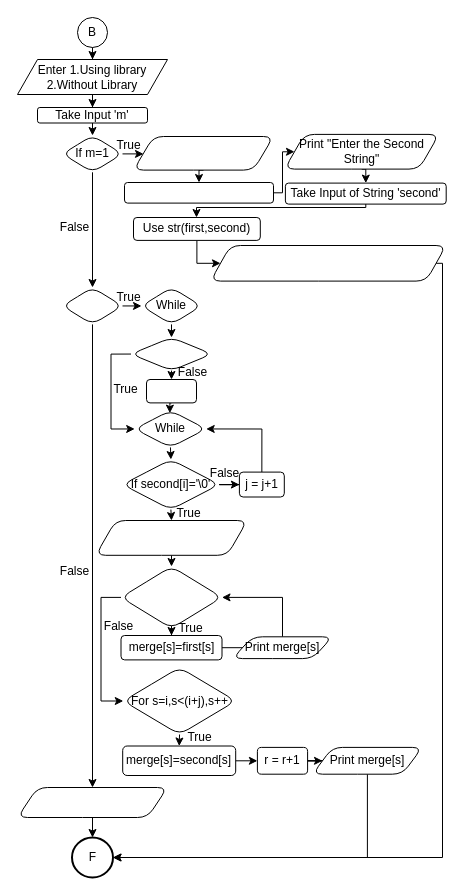
This 468x896 diagram has some shape labels left out. Each missing label, with the box of its shape:
For s=0,s<i,s++: (120, 566, 222, 628)
i = i+1: (146, 378, 196, 403)
If first[i]='\0': (130, 336, 212, 371)
If m=2: (62, 286, 122, 324)
Print "Enter the First String: (132, 136, 274, 170)
Print "Enter Valid Input": (16, 786, 168, 818)
Print "The Combined String is:" str(first,second): (210, 244, 446, 281)
Print "The Merged String is:": (95, 520, 247, 555)
Take Input of String 'first': (124, 182, 274, 203)
